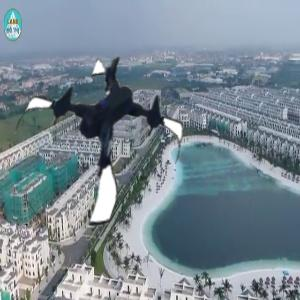drone: (13, 52, 189, 228)
